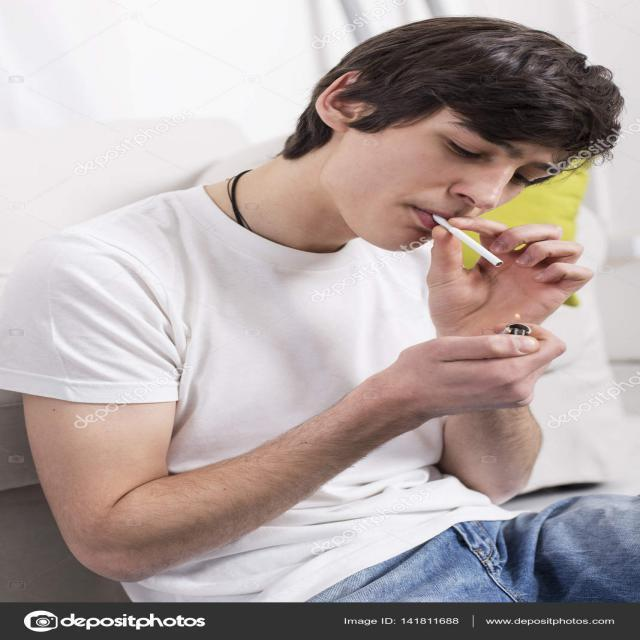smoking: (397, 205, 529, 280)
